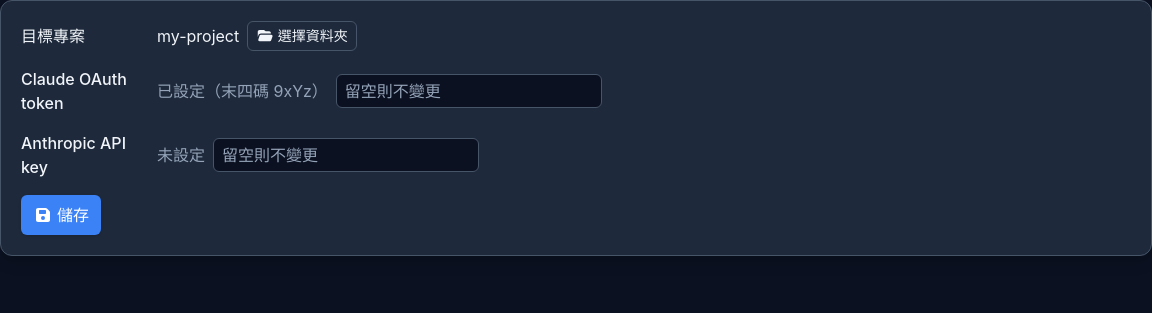
Test case: SettingsPanel › 設定分頁顯示目前設定並可儲存
In the password field with placeholder "留空則不變更" next to "未設定": [346, 155] box [213,138,479,172], type "sk-ant-api03-…abcd"
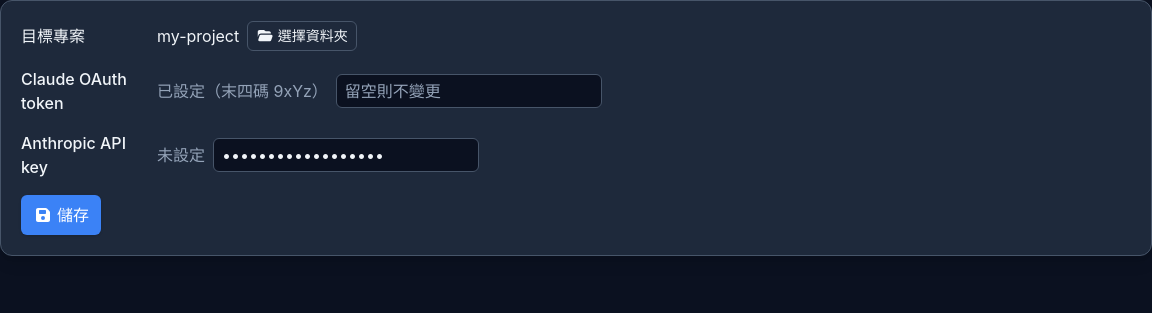
Click the button with class "save-button": [61, 215] box [21,195,101,235]
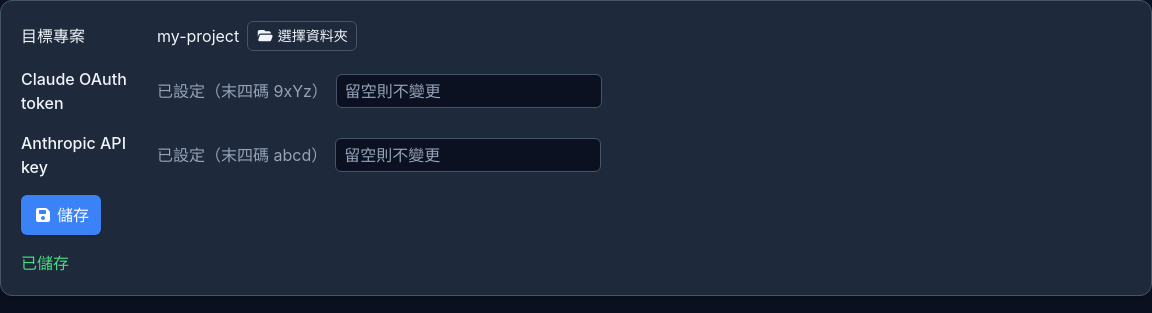
Check: the text "已儲存" is shown, box [21,253,69,273]
Check: the text "已設定（末四碼 abcd）" is shown, box [157,143,327,167]
